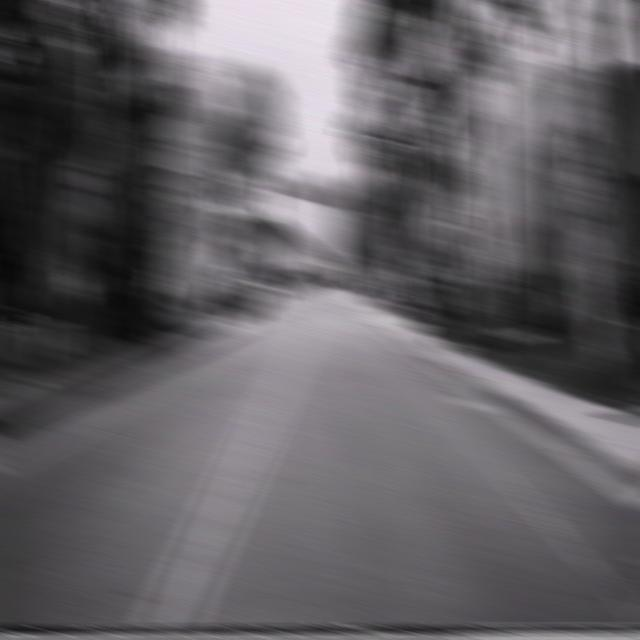pedestrianCrossing: (384, 236, 410, 265)
